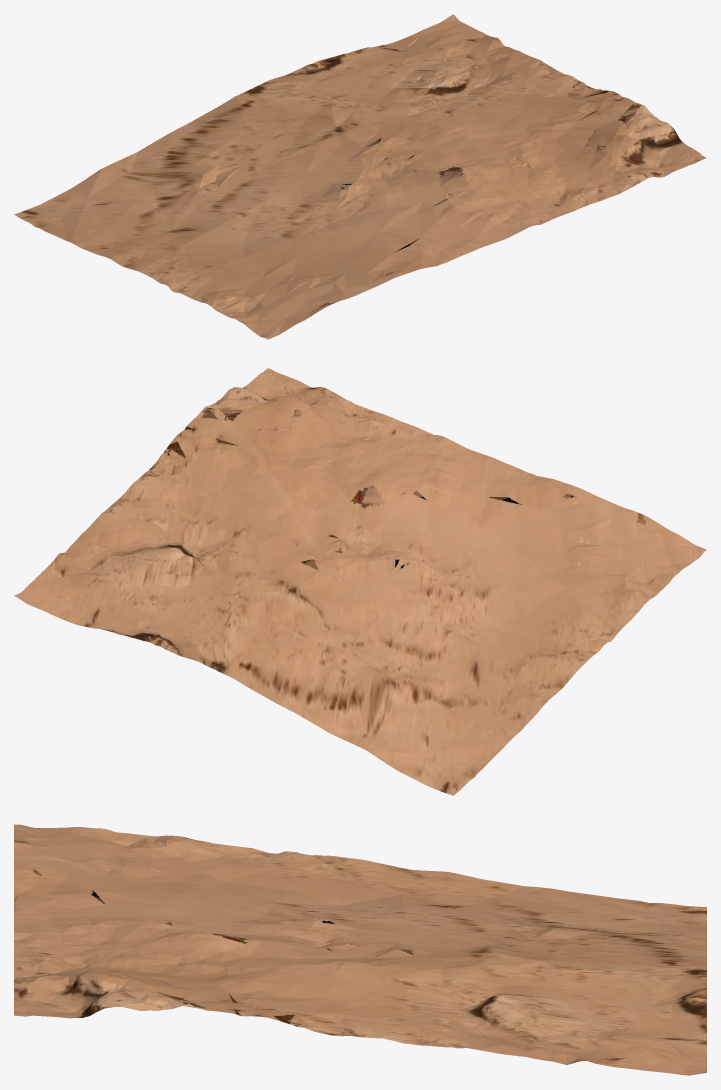
3 views of the same model, one above another, from view 1: azimuth 30°, elevation 25°; view 2: azimuth 150°, elevation 25°; view 3: azimuth 270°, elevation 25° (orthographic). The views are drawn at different scales.
Size of the model in its own units: 1.04 by 0.323 by 1.04.
Materials: 2 (2 with a texture image).
